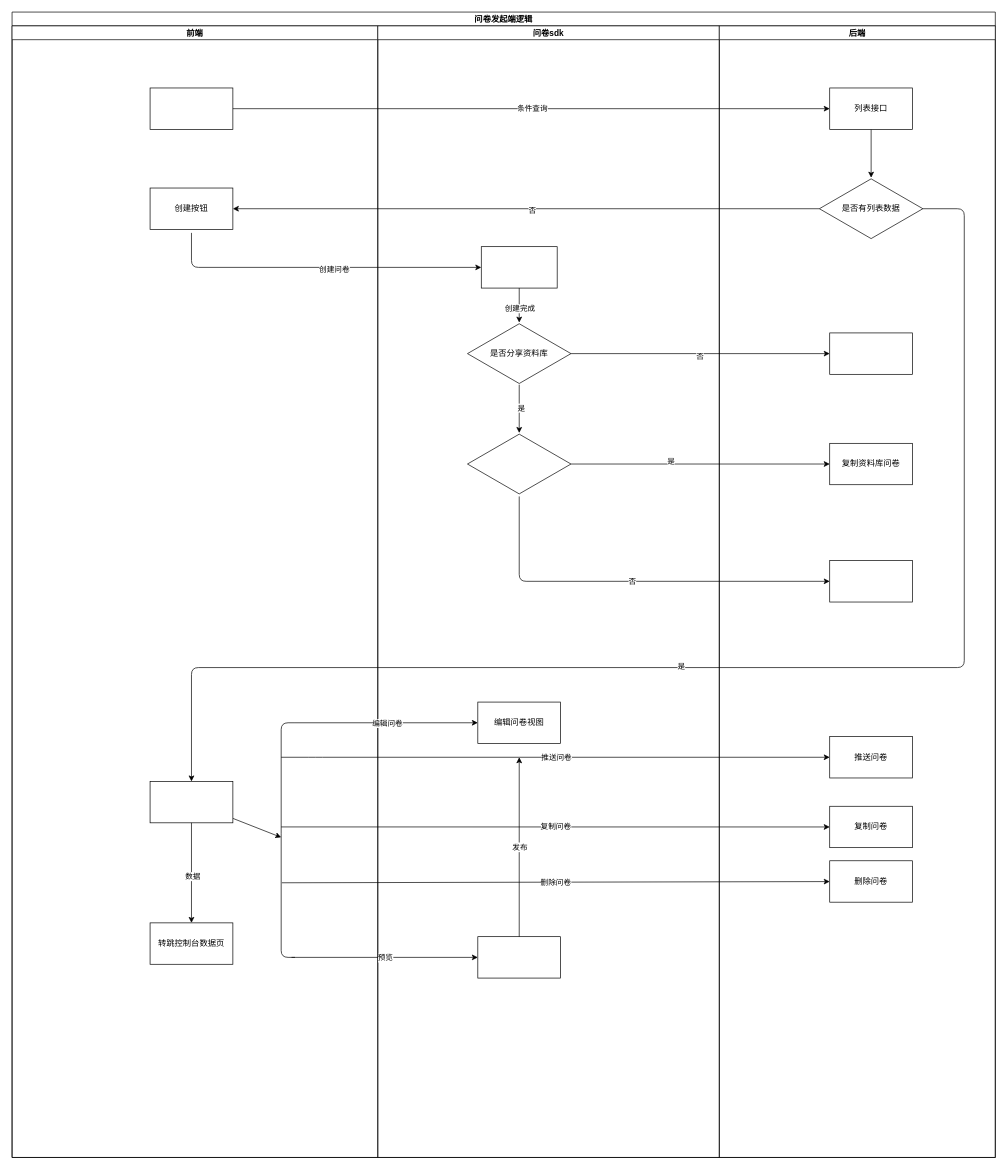
This 1007x1170 diagram has some shape labels left out. The shapes that lost their labels are listed below. From the top down, each one's centre as x and y in pixels, then its label:
[191,108]: 问卷面板
[519,267]: 创建问卷视图
[871,353]: 创建房间问卷
[519,463]: 是否主持人
[871,581]: 复制为其他类型资料库问卷
[191,802]: 问卷列表
[519,957]: 预览视图
